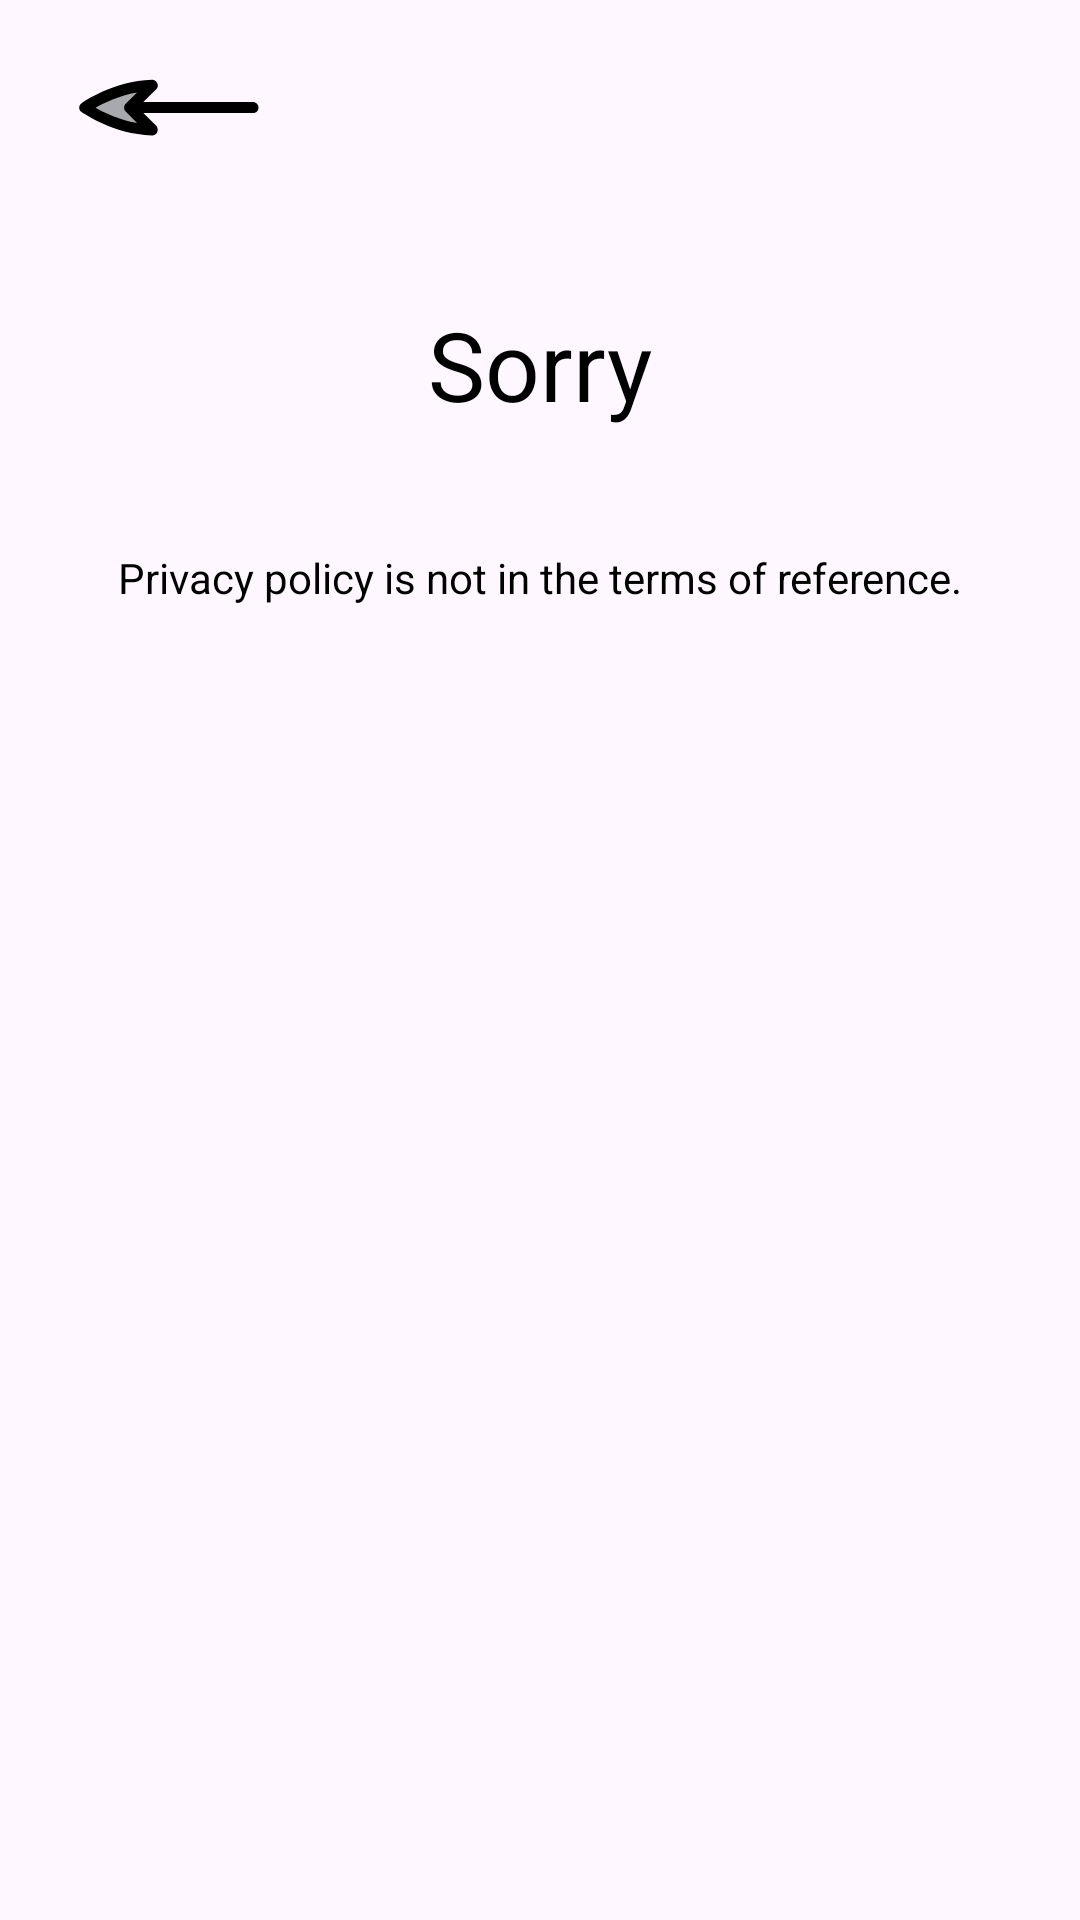

Icon bounding boxes for this 1080 × 1920 phone screenshot, format (x1, y1, x2, y2):
back: (79, 79, 259, 136)
